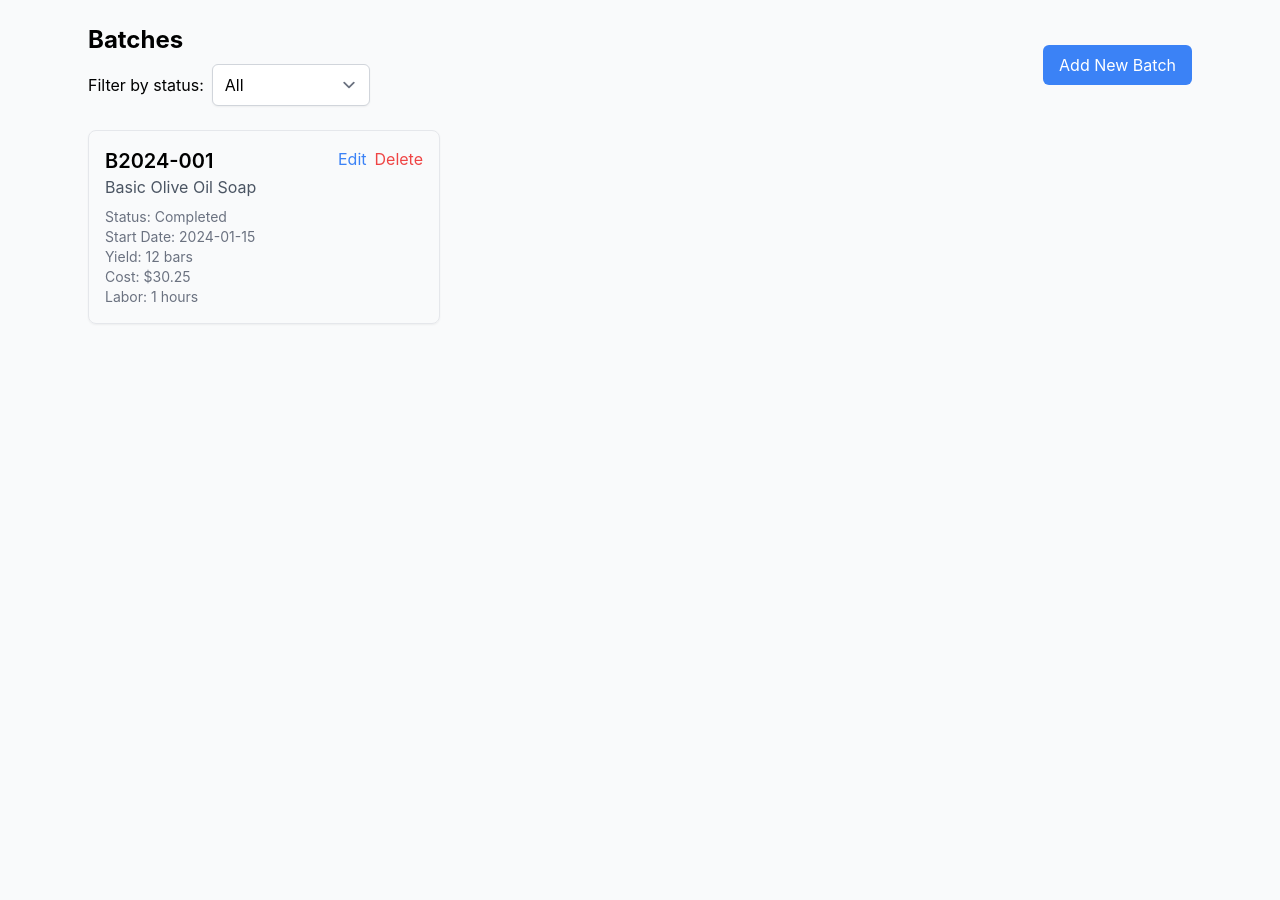
Test: Batches Component › can add new batch
Click the button "Add New Batch" at (1118, 65), box [1043,45,1192,85]
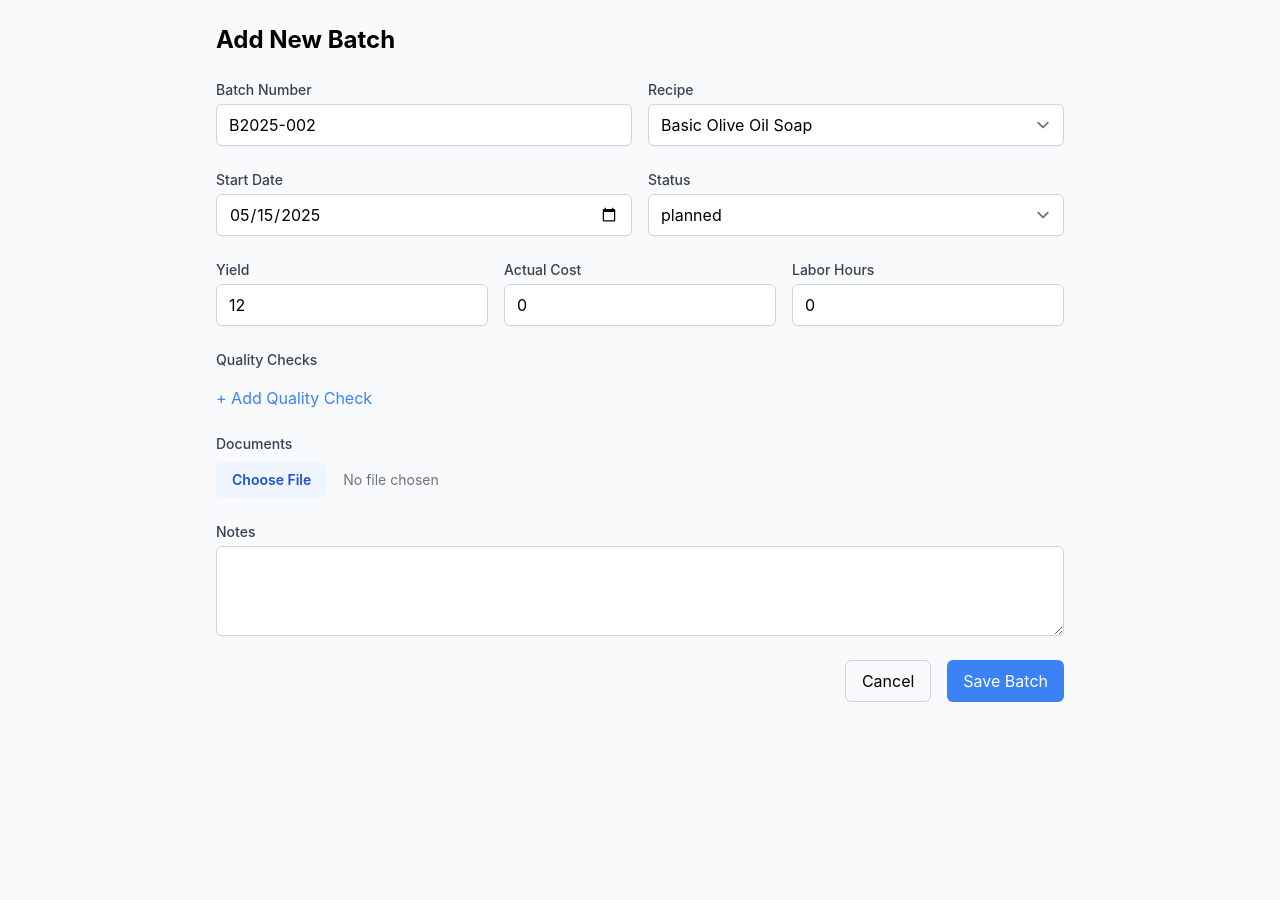
Now the heading "Add New Batch" is shown, box [216,25,395,54]
